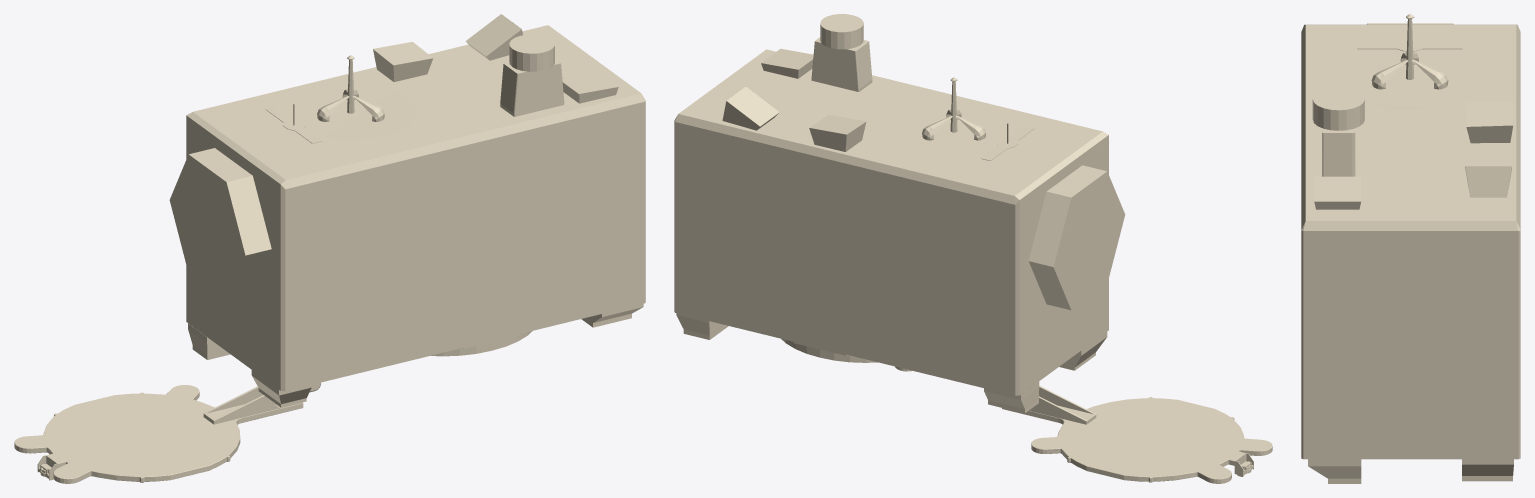
File: gedi.glb
3 views of the same model, side by side, from view 1: azimuth 30°, elevation 25°; view 2: azimuth 150°, elevation 25°; view 3: azimuth 270°, elevation 25° (orthographic). The views are drawn at different scales.
Visible parts, largest first — view 1: JEM_EF_GEDI; view 2: JEM_EF_GEDI; view 3: JEM_EF_GEDI.
Boxes of the visible parts, x1,y1,x2,y2 form: JEM_EF_GEDI: (14, 14, 645, 483); JEM_EF_GEDI: (674, 14, 1272, 483); JEM_EF_GEDI: (1301, 14, 1520, 483).
Size of the model in its own units: 0.2872 by 0.1679 by 0.0857.
